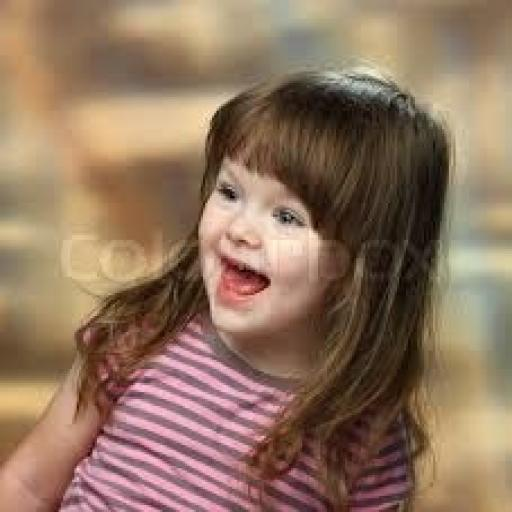laughing: (0, 60, 465, 510)
